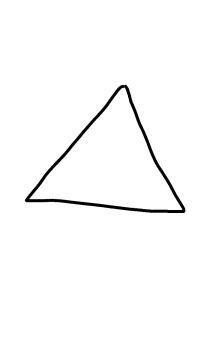Triangle: (23, 83, 188, 219)
